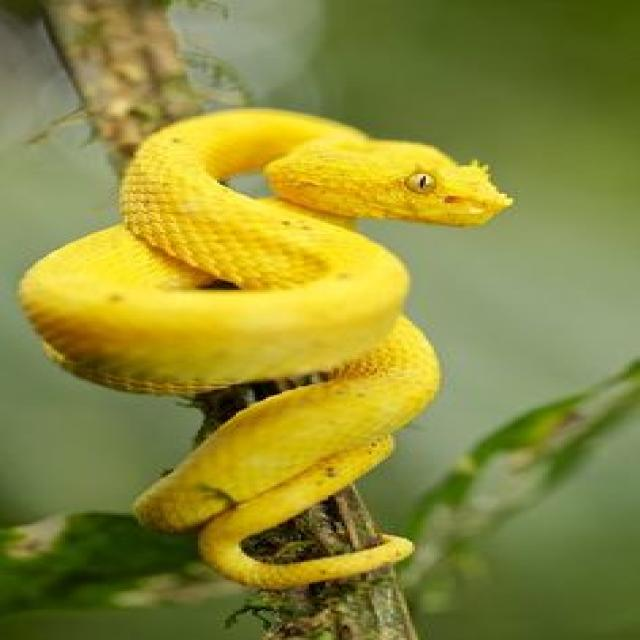Carnivorous: (16, 109, 515, 595)
